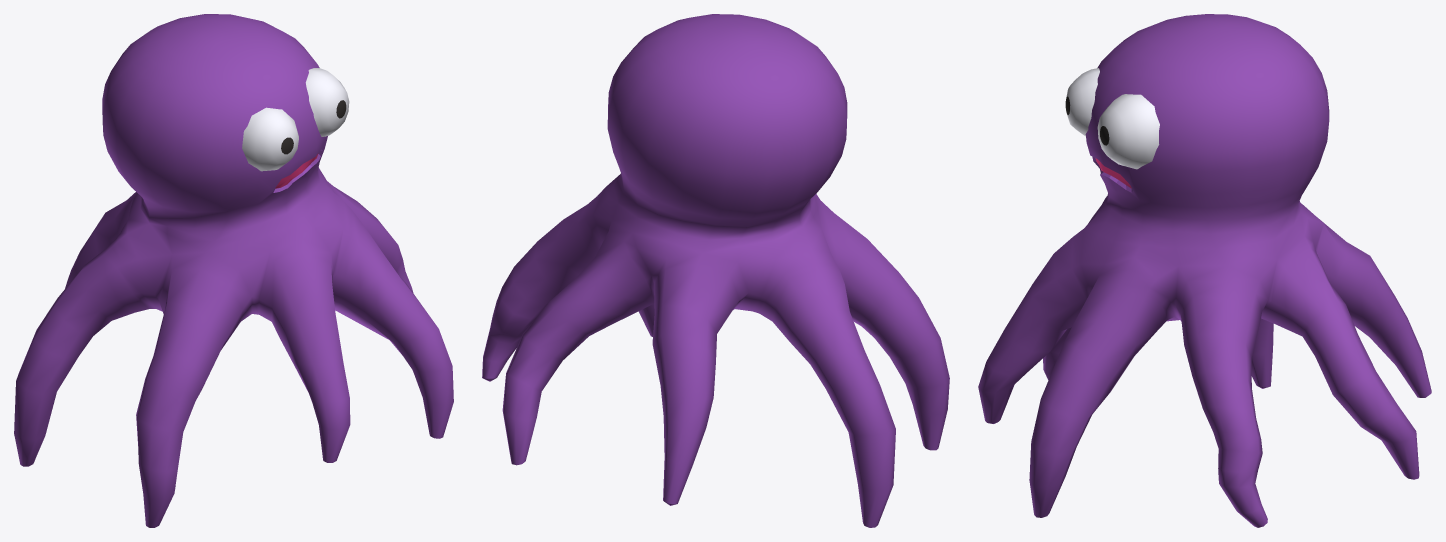
The model's file is Hat_75_02.fbx.
The picture shows the model from 3 angles, left to right: view 1: azimuth 30°, elevation 25°; view 2: azimuth 150°, elevation 25°; view 3: azimuth 270°, elevation 25°; orthographic projection. The views are drawn at different scales.
Visible parts, largest first — view 1: Hat_75_02; view 2: Hat_75_02; view 3: Hat_75_02.
Boxes of the visible parts, x1,y1,x2,y2 form: Hat_75_02: (14,14,453,527); Hat_75_02: (482,14,949,527); Hat_75_02: (978,14,1431,527).
Size of the model in its own units: 38.88 by 39.75 by 36.57.
